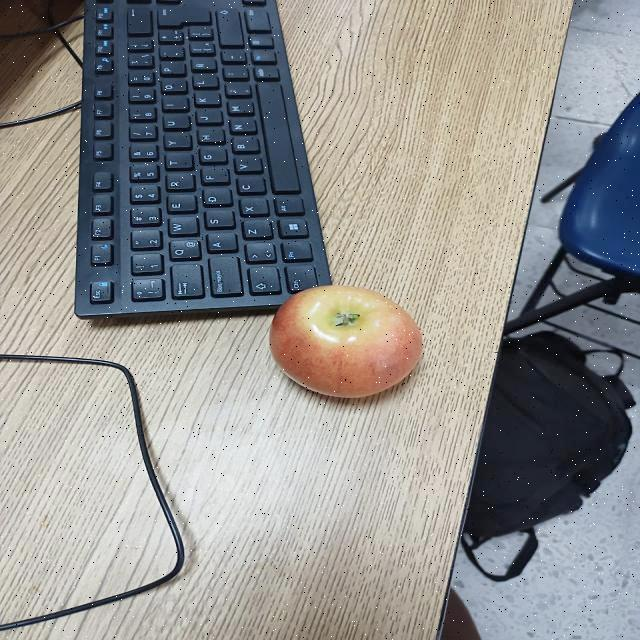Apel Gala: (263, 280, 428, 405)
